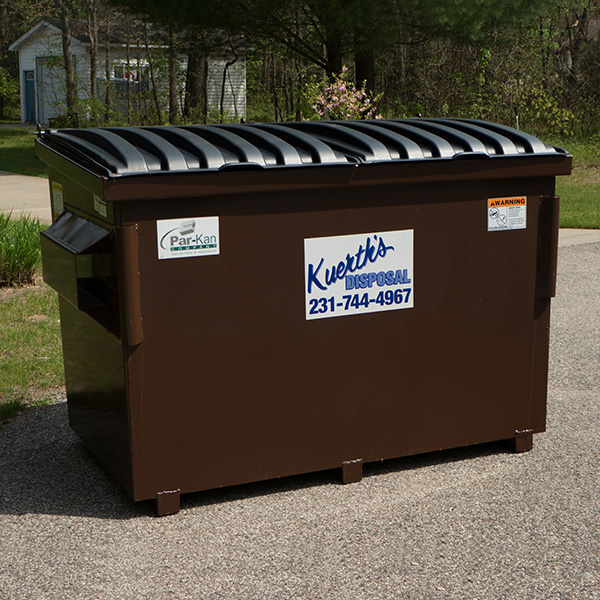Dumpster: (28, 116, 585, 519)
